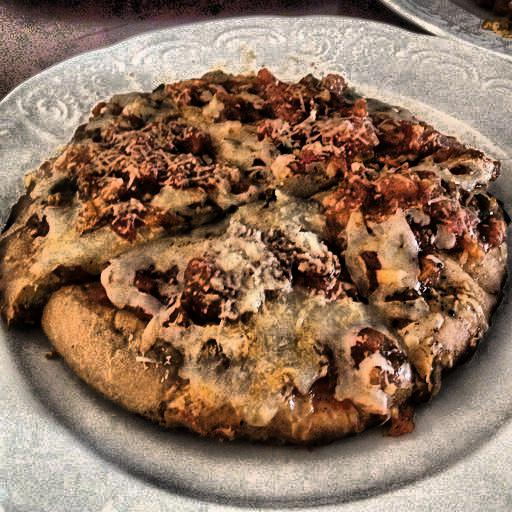pizza: (2, 63, 509, 490)
